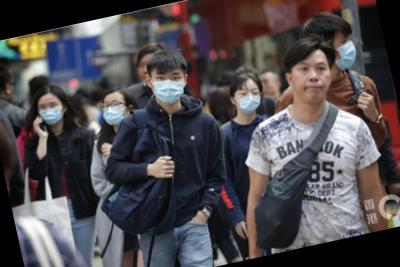with_mask: (150, 66, 191, 108), (332, 32, 362, 74), (35, 98, 68, 130), (234, 83, 264, 118), (100, 95, 130, 129)
without_mask: (290, 55, 335, 108)
